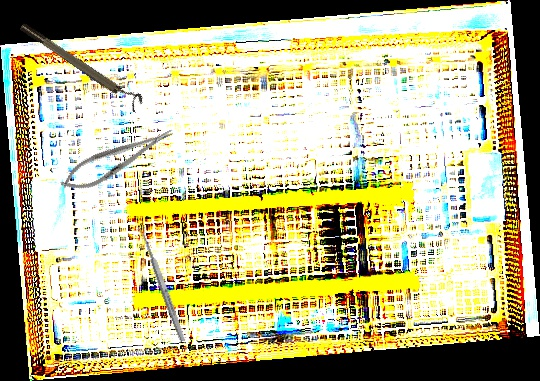Fixation Ring: (18, 16, 146, 113)
Needle Holder: (54, 119, 181, 200)
Surgical Spoon: (137, 224, 187, 343)
